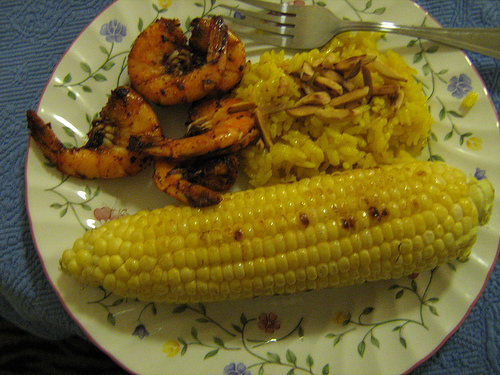corn: (59, 158, 496, 305)
